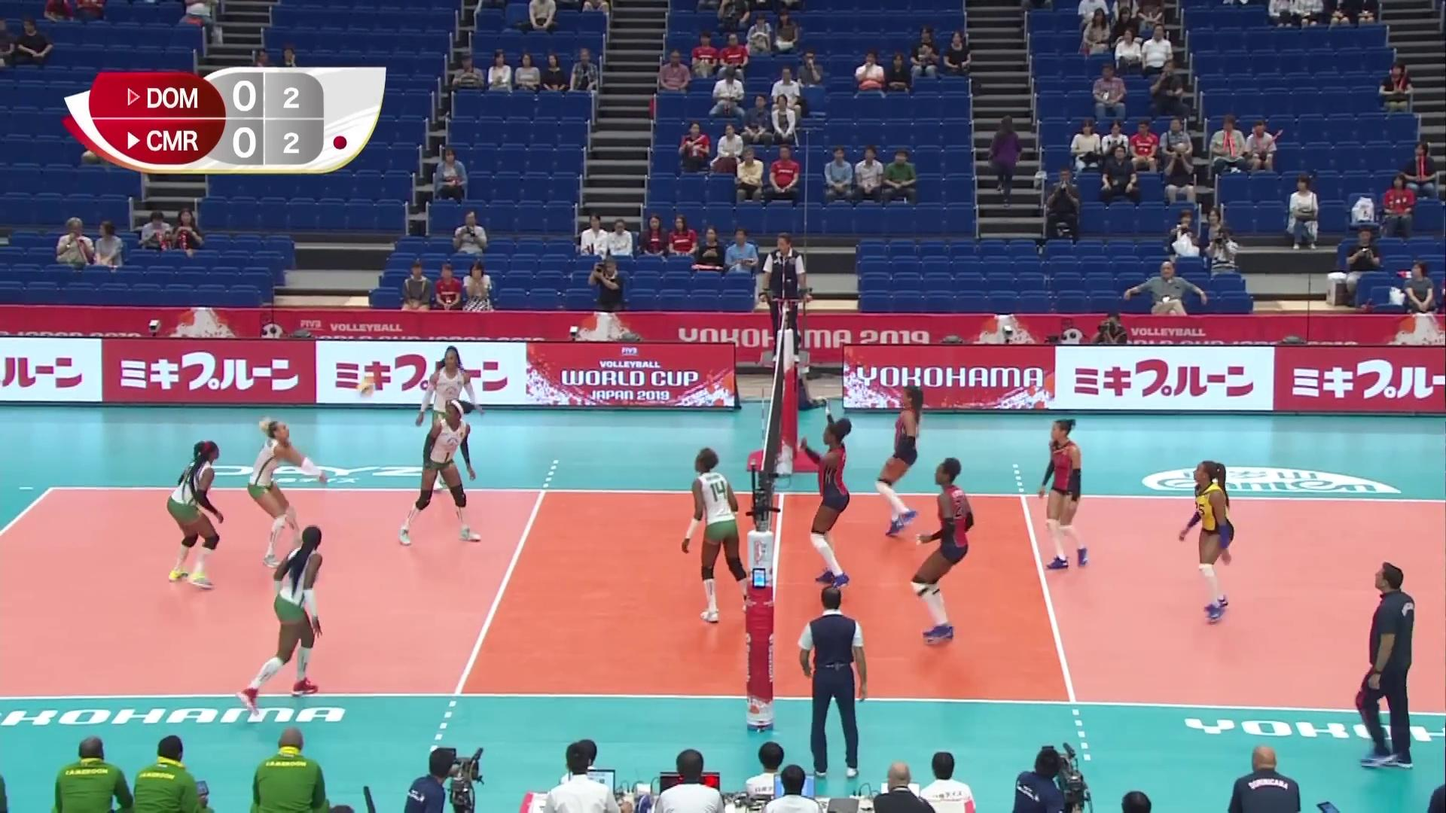player: (240, 525, 327, 705), (680, 446, 756, 624), (906, 457, 975, 644), (397, 400, 485, 545), (249, 419, 326, 562), (798, 415, 857, 589), (1176, 463, 1237, 621), (418, 344, 481, 491), (163, 439, 224, 589), (1038, 419, 1092, 571), (875, 390, 925, 543)
refree: (800, 589, 866, 775), (762, 233, 807, 361)
